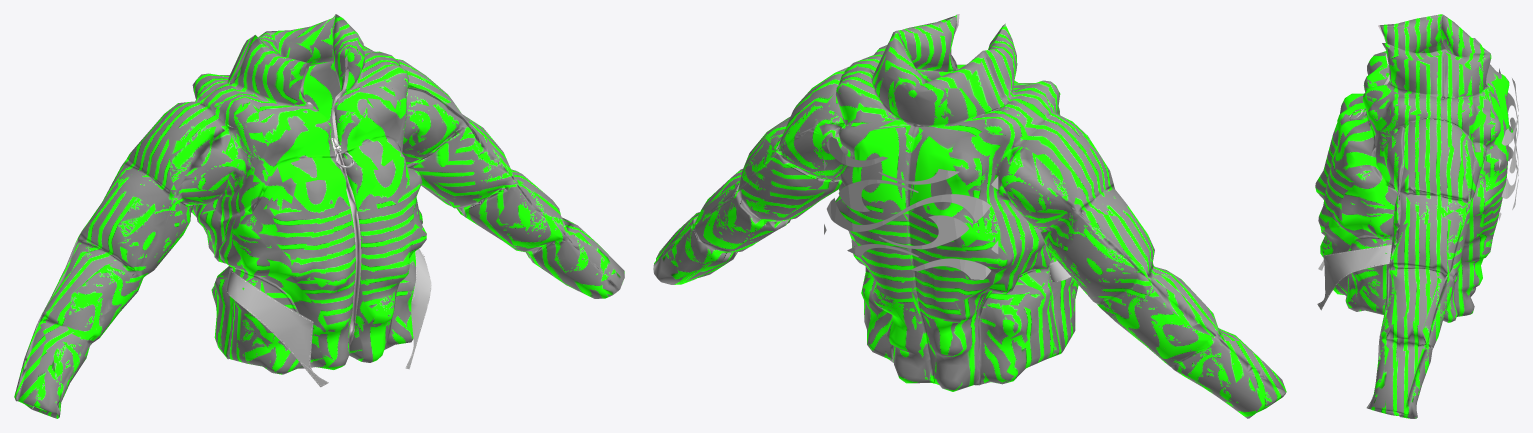
File: hudatb.glb
The picture shows the model from 3 angles, left to right: view 1: azimuth 30°, elevation 25°; view 2: azimuth 150°, elevation 25°; view 3: azimuth 270°, elevation 25°; orthographic projection. The views are drawn at different scales.
Visible parts, largest first — view 1: HUDA TB Jacket; view 2: HUDA TB Jacket; view 3: HUDA TB Jacket.
Part boxes in pixels (<box>): HUDA TB Jacket: <box>14,14,624,418</box>; HUDA TB Jacket: <box>653,14,1286,418</box>; HUDA TB Jacket: <box>1315,14,1518,418</box>.
Size of the model in its own units: 2.79 by 1.42 by 0.9492.
6 materials, 2 textured.
